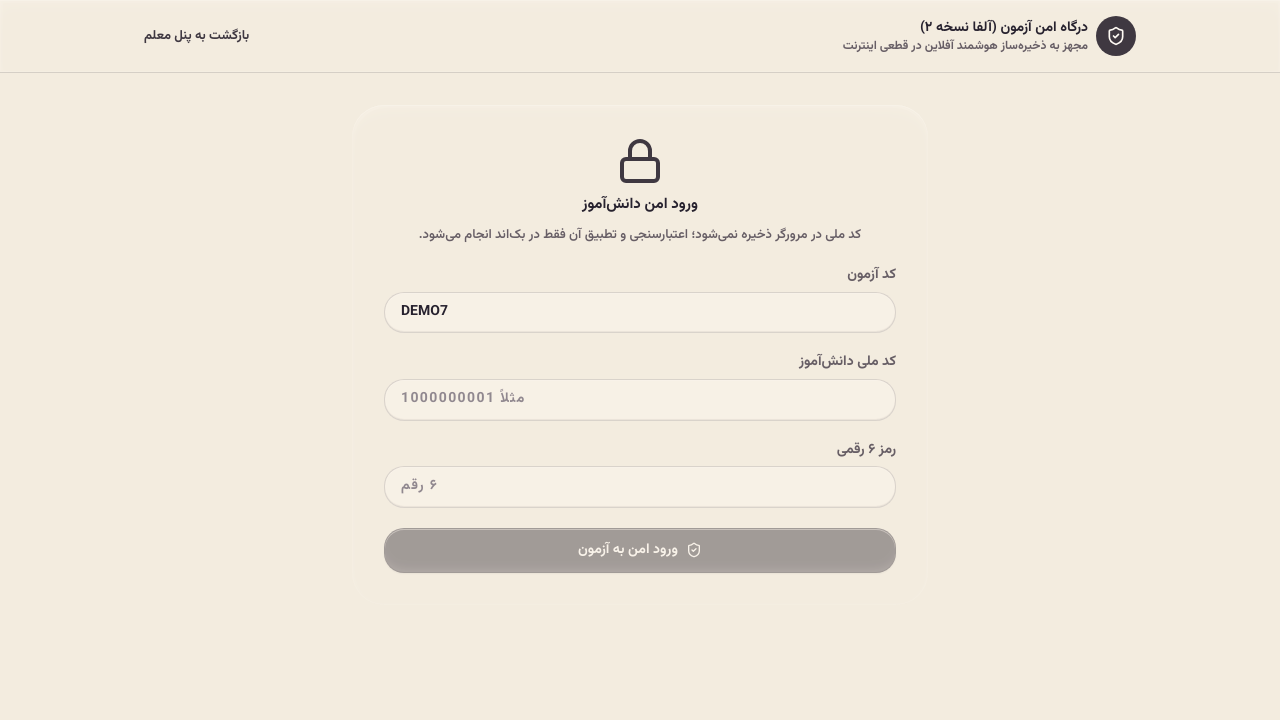
Test: SecureExamPortal PIN login (T7) › completed setup stores the session and lands on the ready screen
The image size is (1280, 720).
Type "1000000001" into the field with placeholder "مثلاً 1000000001" at (640, 400), box [384,379,896,420]
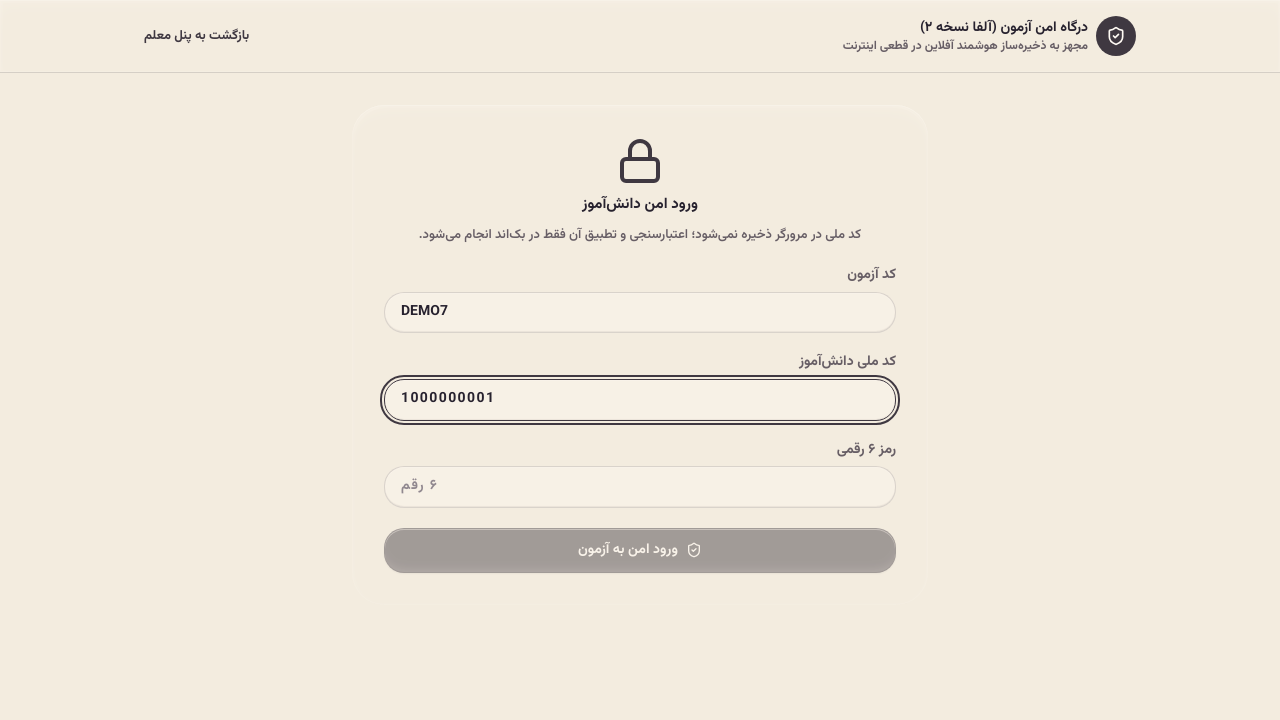
Type "123456" into the field with placeholder "۶ رقم" at (640, 487), box [384,466,896,508]
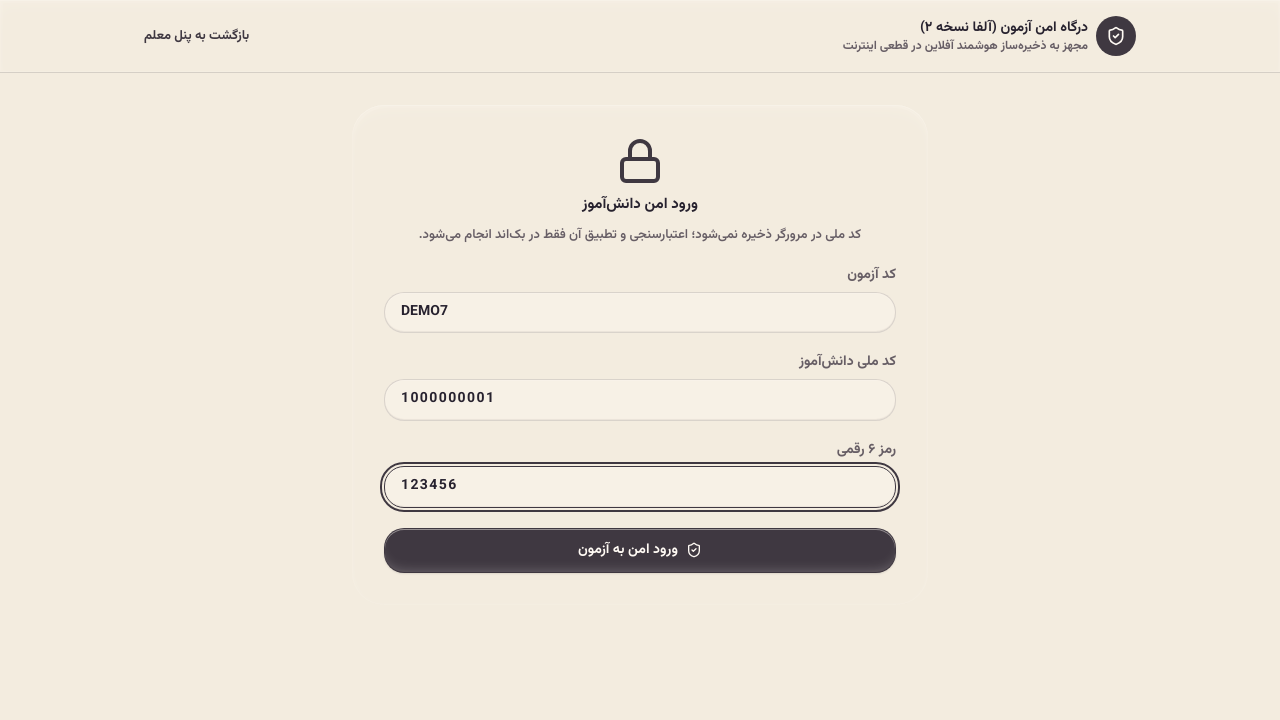
Click the button "ورود امن به آزمون" at (640, 550), box [384,528,896,573]
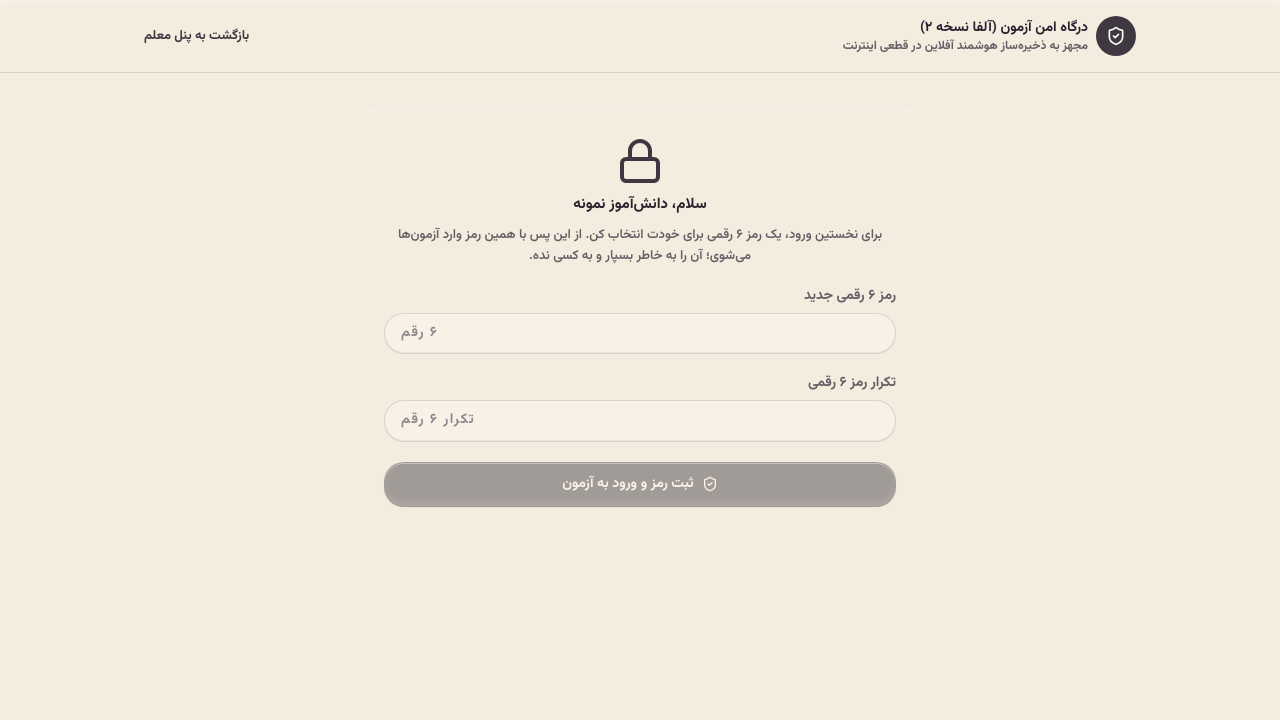
Result: the heading "سلام، دانش‌آموز نمونه" is shown at [573,193,707,216]
Type "123456" into the field with placeholder "۶ رقم" at (640, 334), box [384,313,896,354]
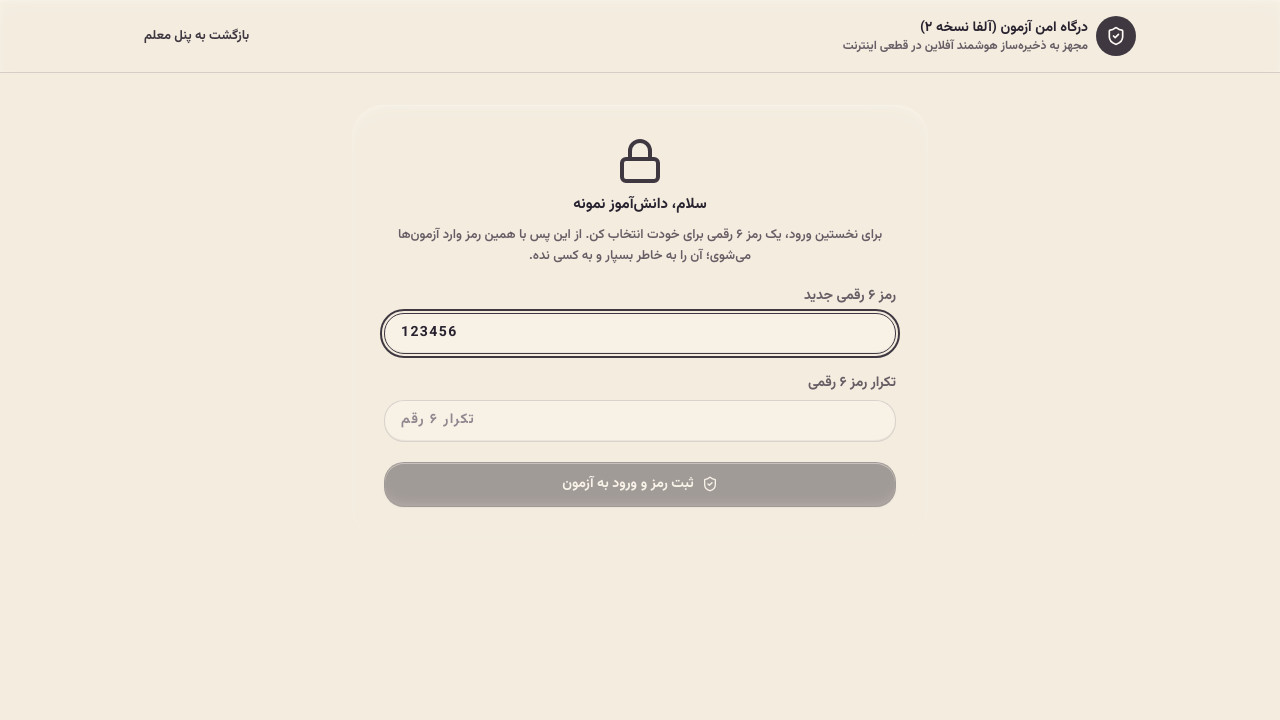
Type "123456" into the field with placeholder "تکرار ۶ رقم" at (640, 421), box [384,400,896,442]
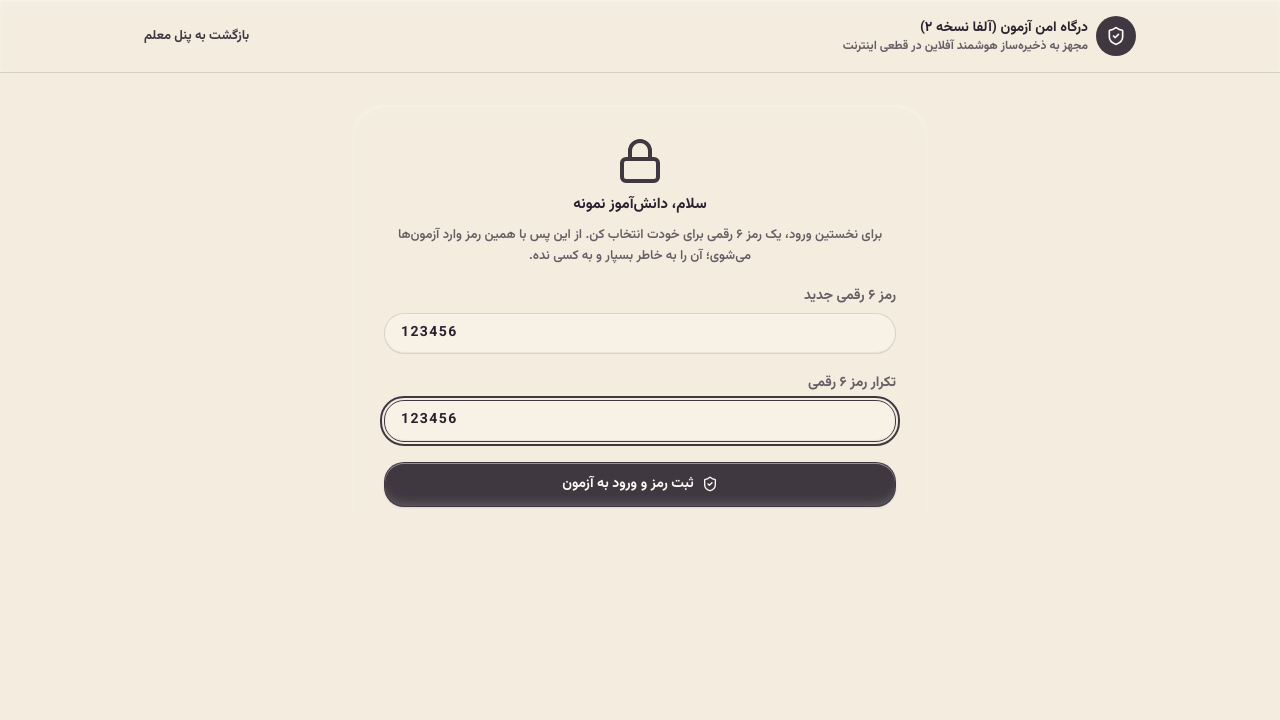
Click the button "ثبت رمز و ورود به آزمون" at (640, 484), box [384,462,896,507]
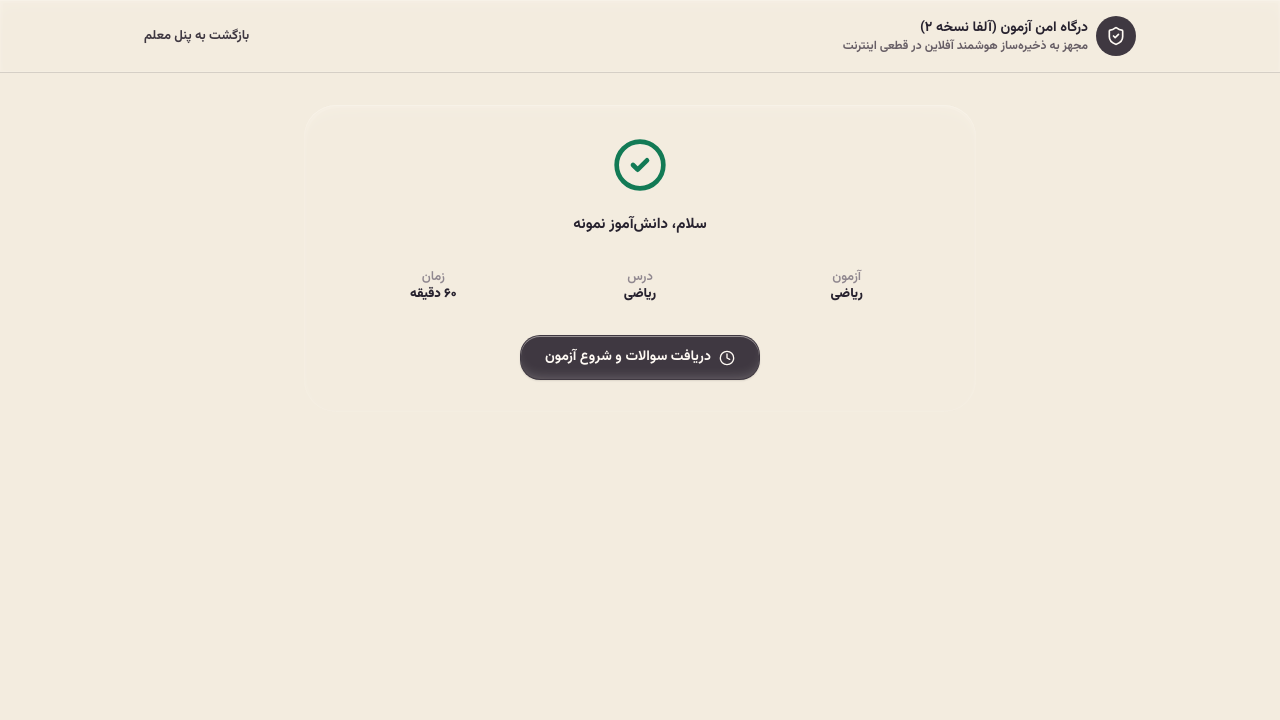
Result: the button "دریافت سوالات و شروع آزمون" is shown at [520,335,760,380]
